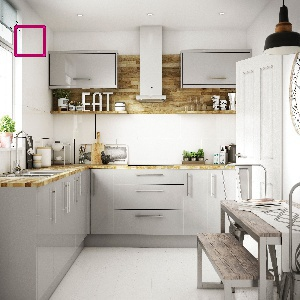square: (12, 23, 48, 59)
